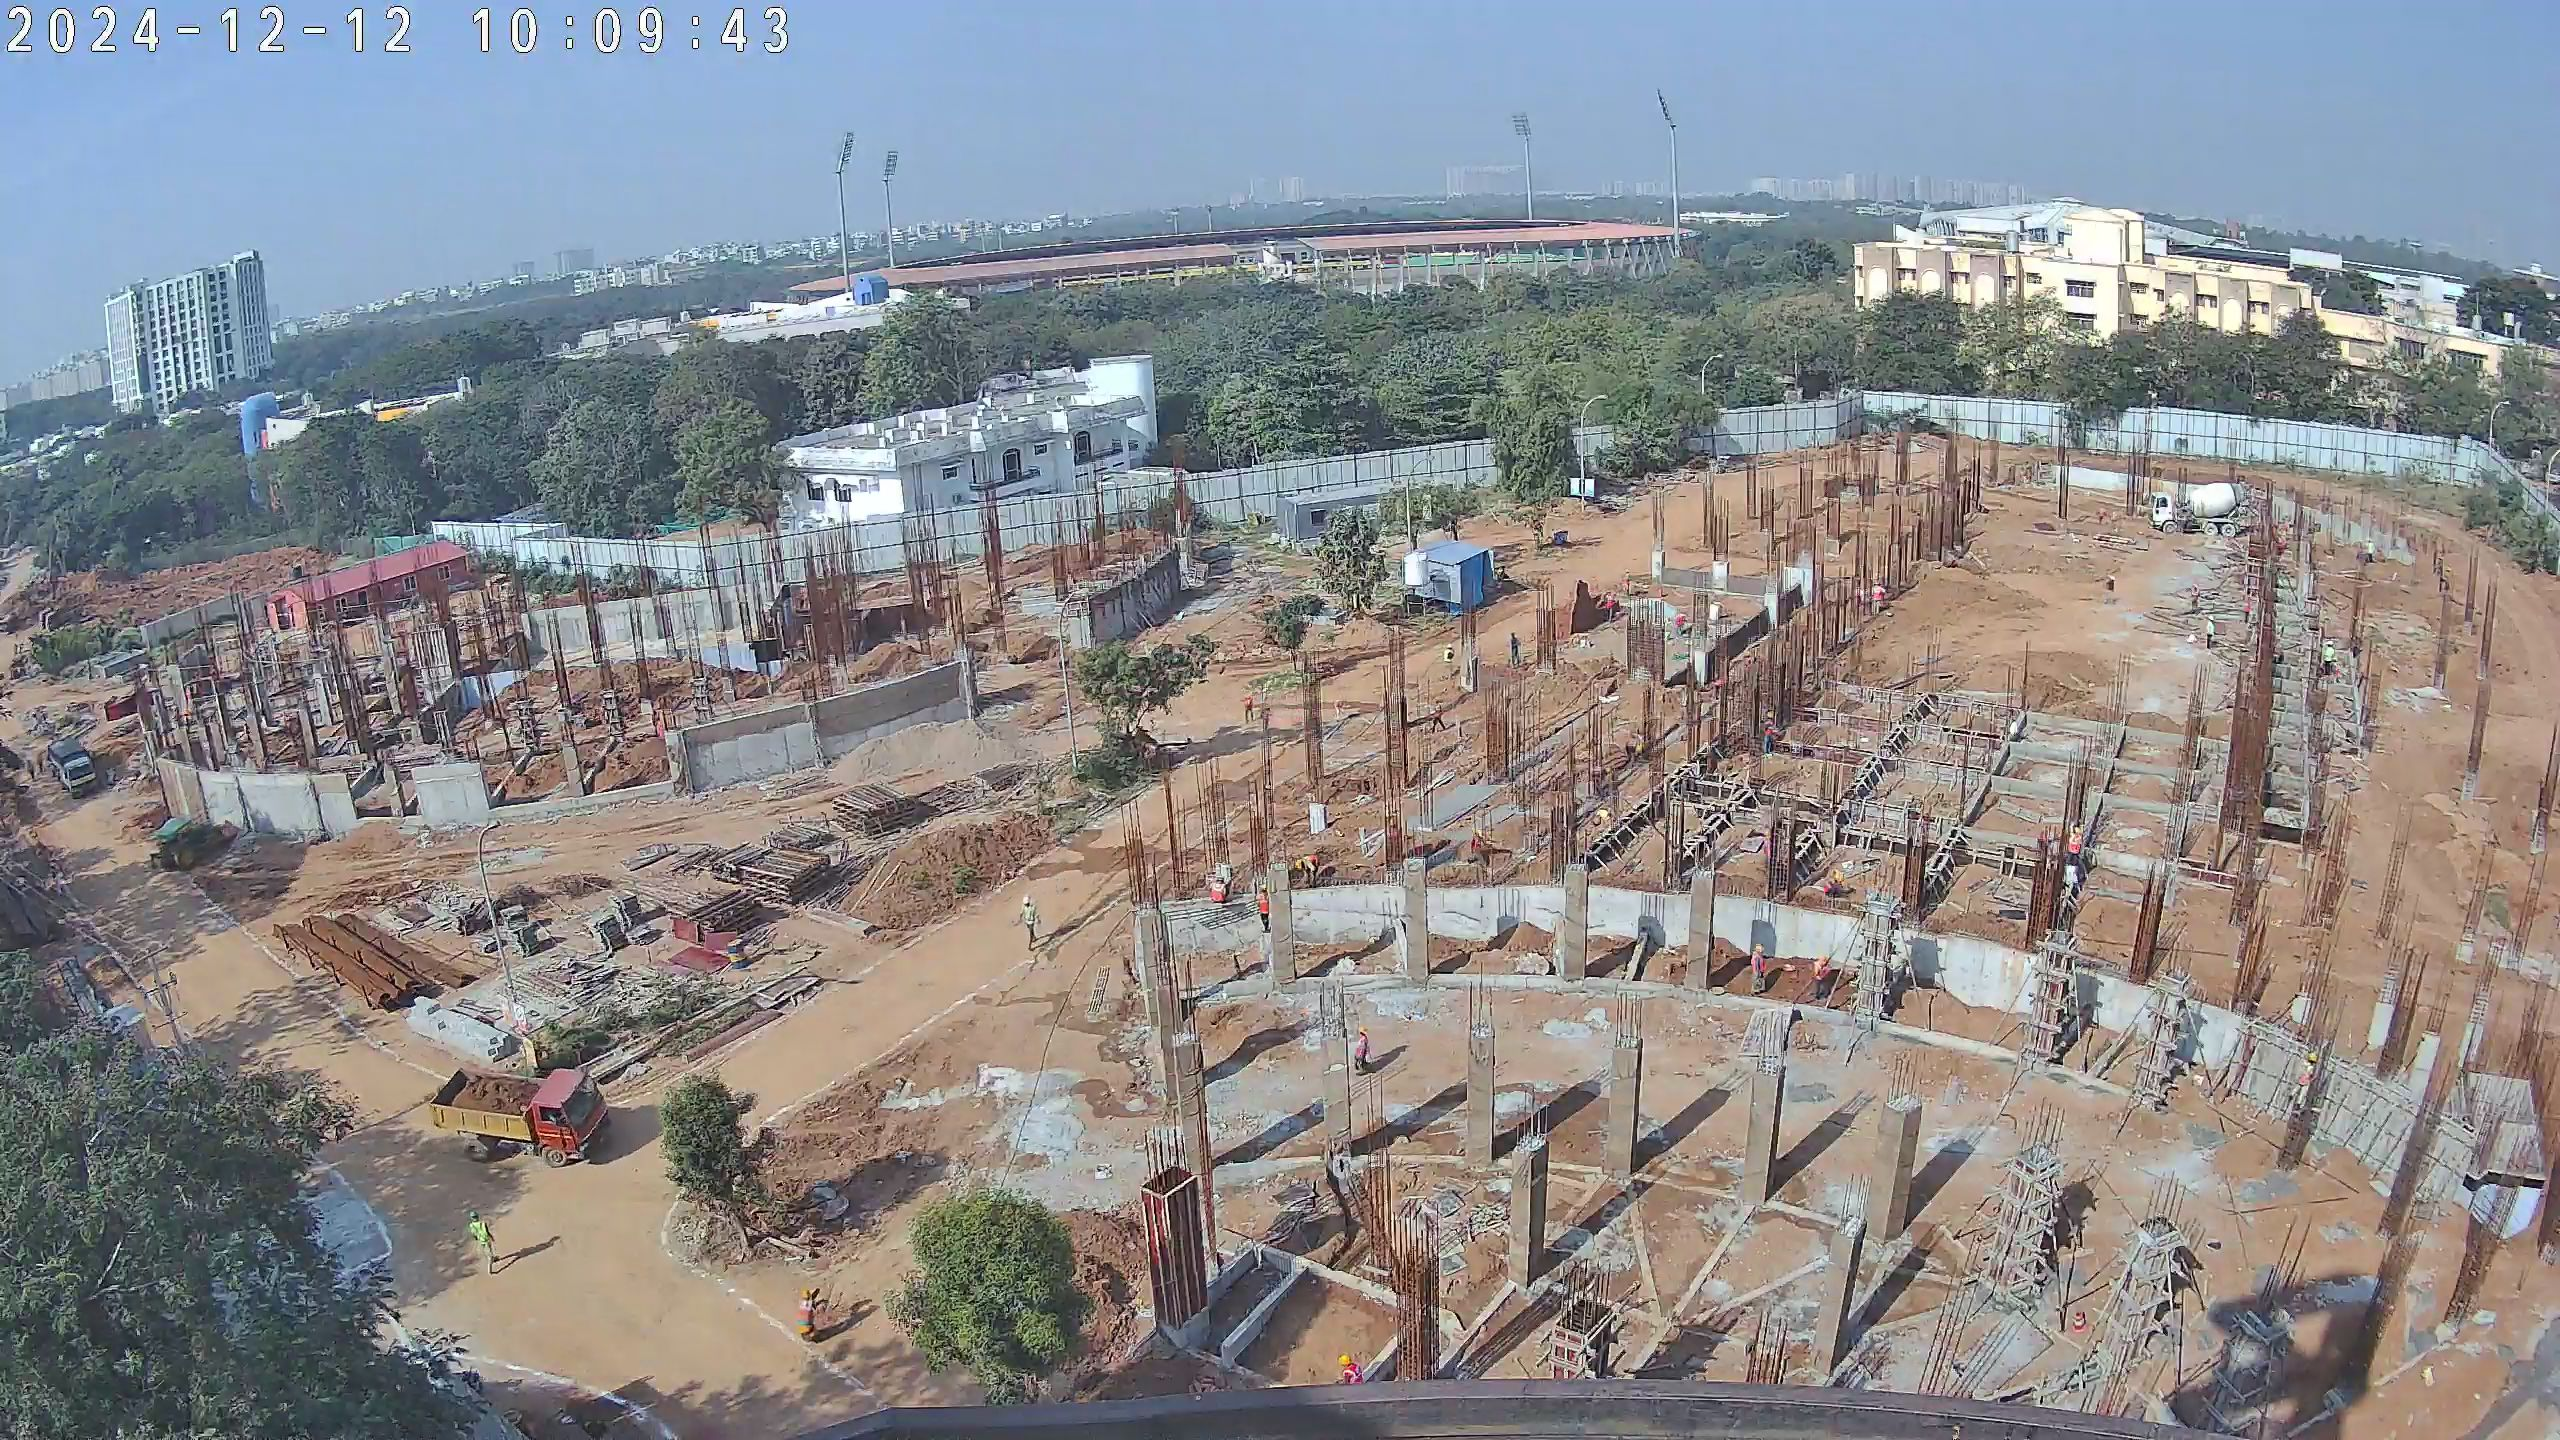bulldozer: (140, 810, 251, 881)
truck: (424, 1062, 610, 1170), (2142, 477, 2261, 540), (39, 739, 104, 808)
worker: (462, 1206, 502, 1281), (789, 1286, 833, 1351), (1012, 893, 1050, 966), (2287, 1047, 2319, 1117), (1810, 949, 1839, 1014), (1343, 1024, 1377, 1077), (1745, 941, 1774, 1002), (1329, 1347, 1368, 1387), (1250, 887, 1279, 939), (1290, 851, 1322, 894), (1435, 640, 1464, 685), (1204, 866, 1229, 918), (2318, 629, 2340, 682), (1425, 698, 1454, 738), (2062, 820, 2085, 866), (1866, 574, 1888, 618), (1706, 673, 1733, 707), (2203, 611, 2224, 654), (1601, 586, 1622, 627), (1506, 629, 1526, 672), (1761, 712, 1778, 762), (1466, 831, 1485, 868), (1618, 564, 1637, 600), (2433, 549, 2452, 582), (2360, 536, 2381, 565), (2239, 591, 2255, 629), (2188, 582, 2204, 616), (1240, 693, 1256, 726), (1256, 702, 1273, 733), (2441, 561, 2455, 596), (2096, 506, 2107, 527)
